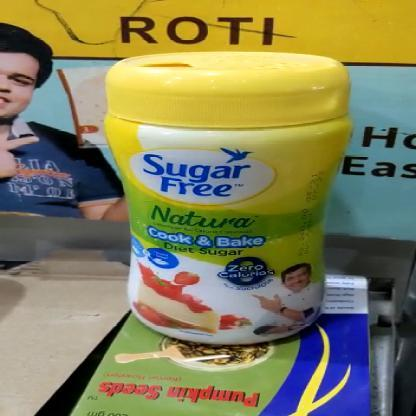SUGAR FREE NATURA DIET SUGAR 80GM: (100, 49, 354, 351)
